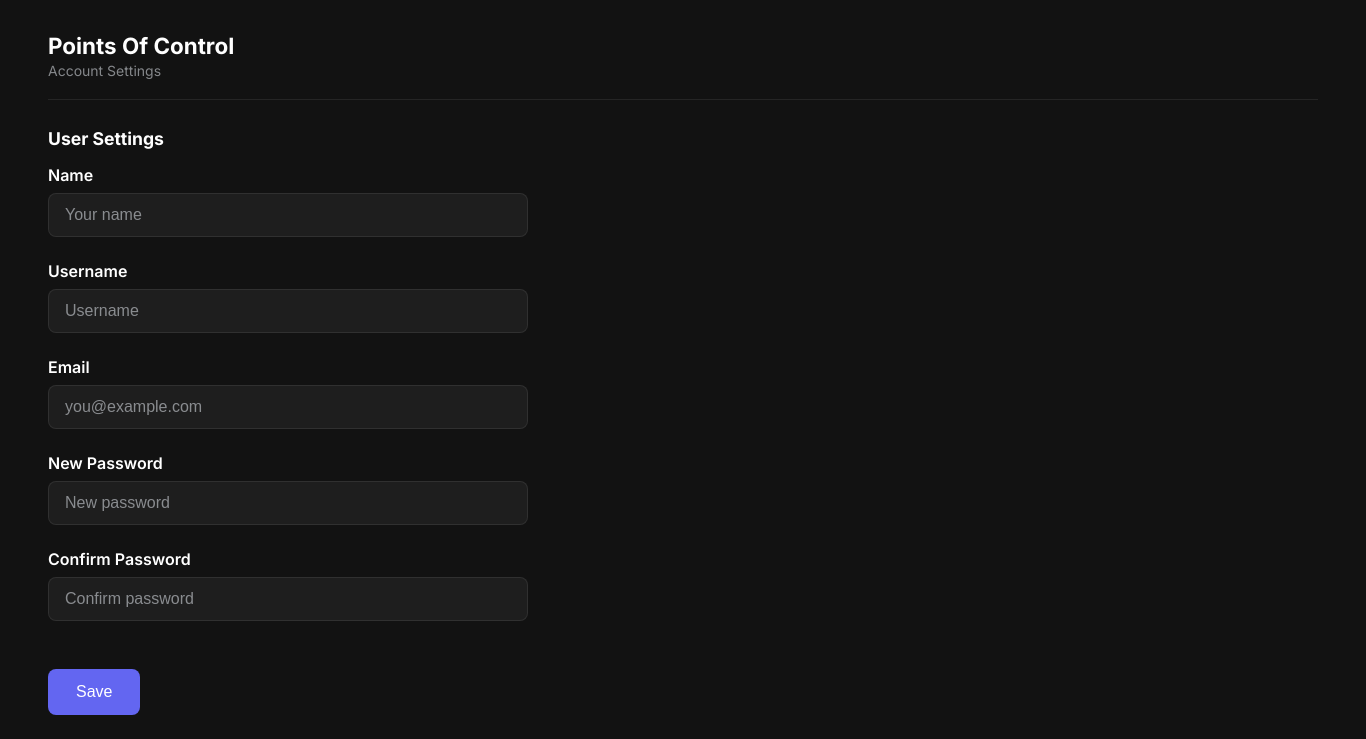
it: UserSettings component › shows error status when save request fails
This screenshot has width=1366, height=739.
Click the button "Save" at (94, 692), box [48,669,140,715]
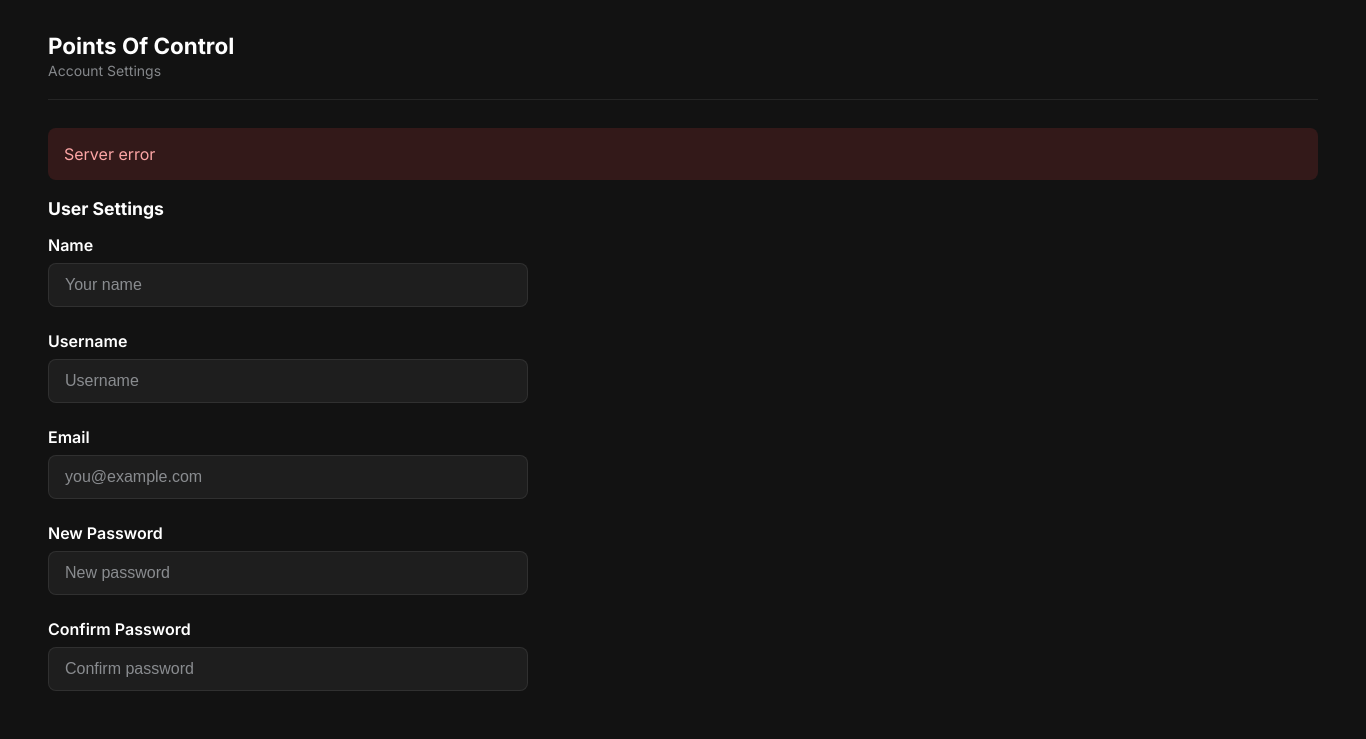
Check: the text "Server error" is shown, box [48,128,1318,180]
